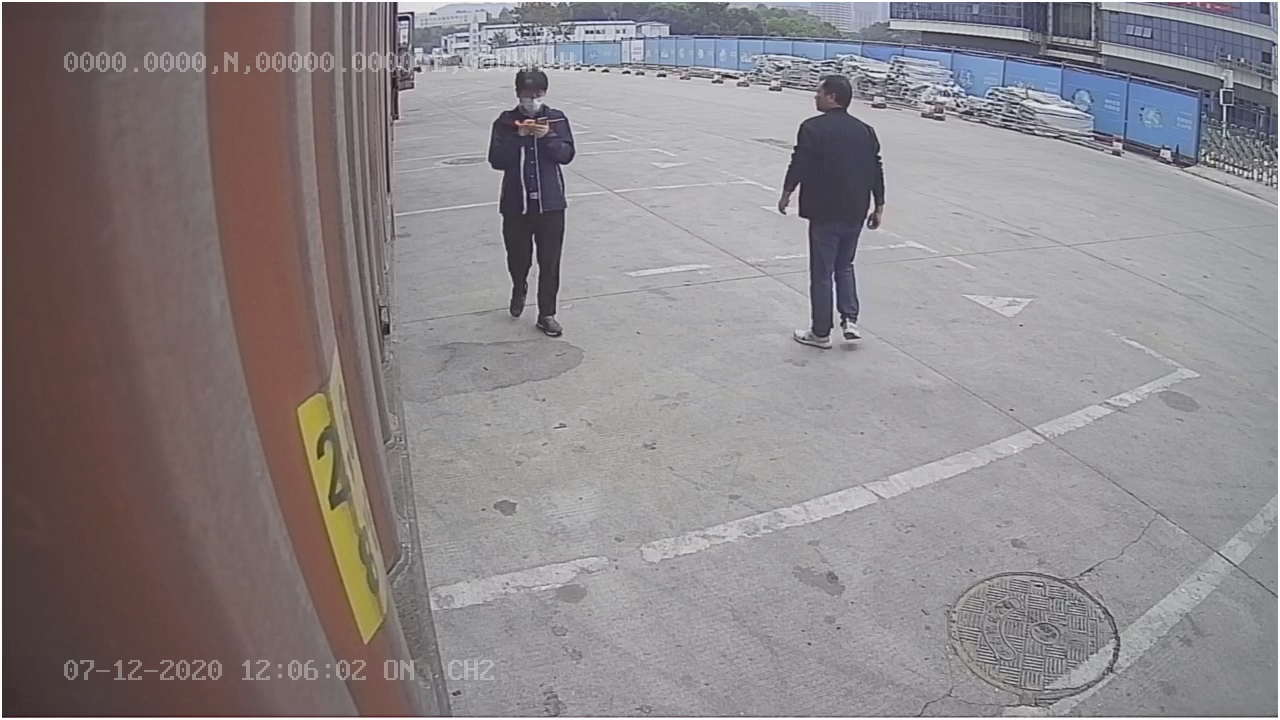person: (775, 69, 886, 356), (486, 60, 578, 341)
